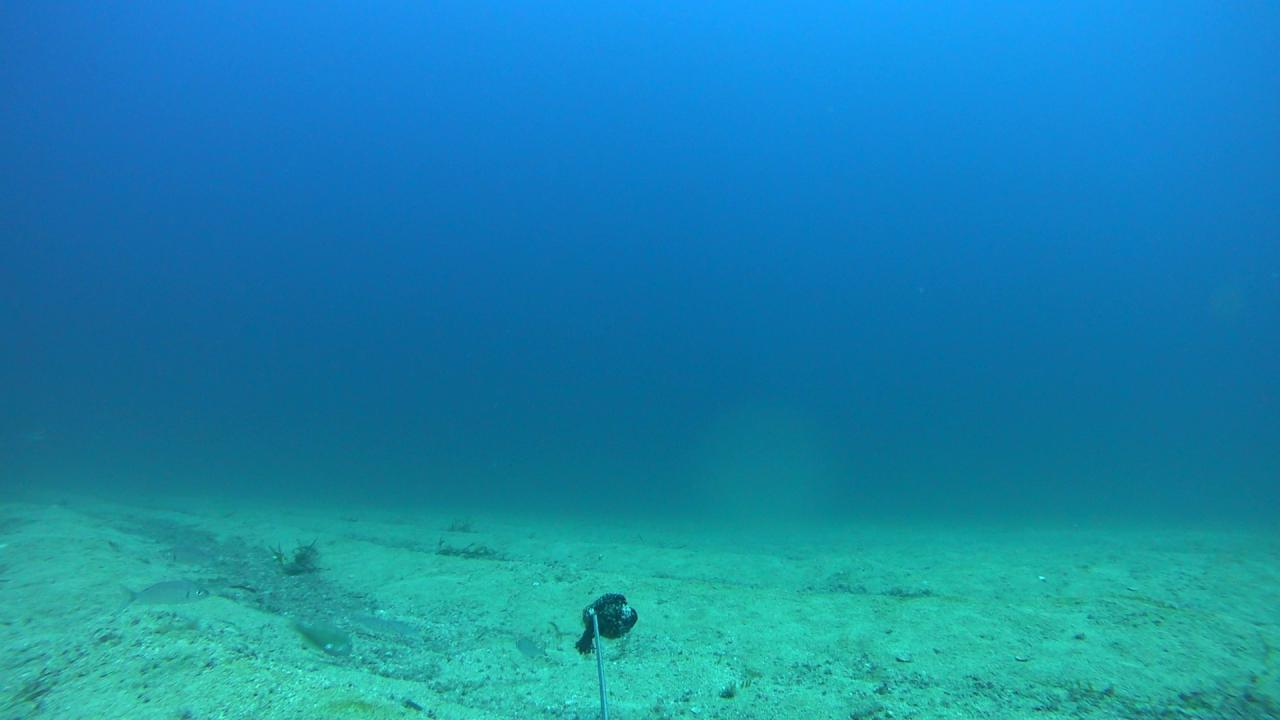pagellus: (114, 578, 209, 613), (514, 634, 550, 659)
raor: (284, 612, 354, 658)
